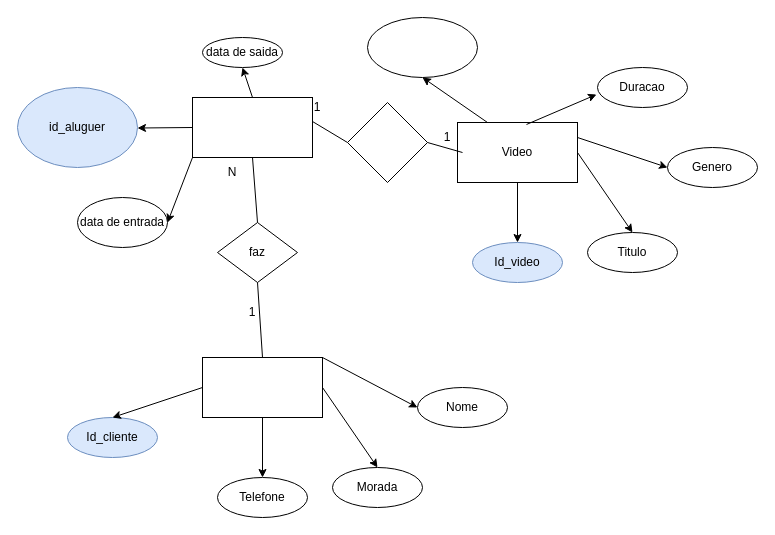
Some shapes in this 775 by 535 pixel diagram are drawn without their labels. The centre of each missing label's shape, as x and y in pixels:
aluguer: the point at 252,127
Cliente: the point at 262,387
Contem: the point at 387,142
empresa de distribuição: the point at 422,47
